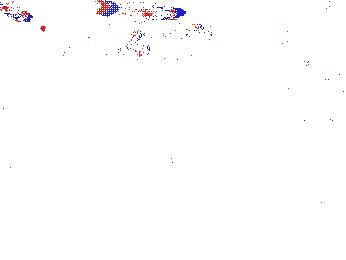glassfish: (133, 122, 184, 196), (117, 204, 180, 229)
redtail glassfish: (135, 29, 214, 62), (53, 36, 132, 63), (126, 21, 208, 46), (100, 1, 184, 22), (1, 1, 36, 23)
